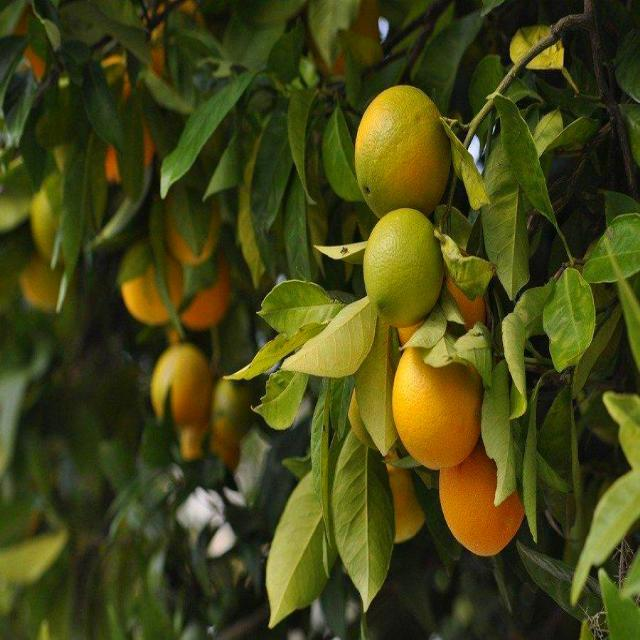Jeruk Sudah Matang: (414, 409, 552, 559), (379, 316, 498, 474), (342, 70, 456, 227), (350, 196, 454, 326), (167, 230, 238, 336), (120, 227, 189, 333), (162, 156, 225, 268), (197, 364, 269, 449), (146, 344, 222, 424)
